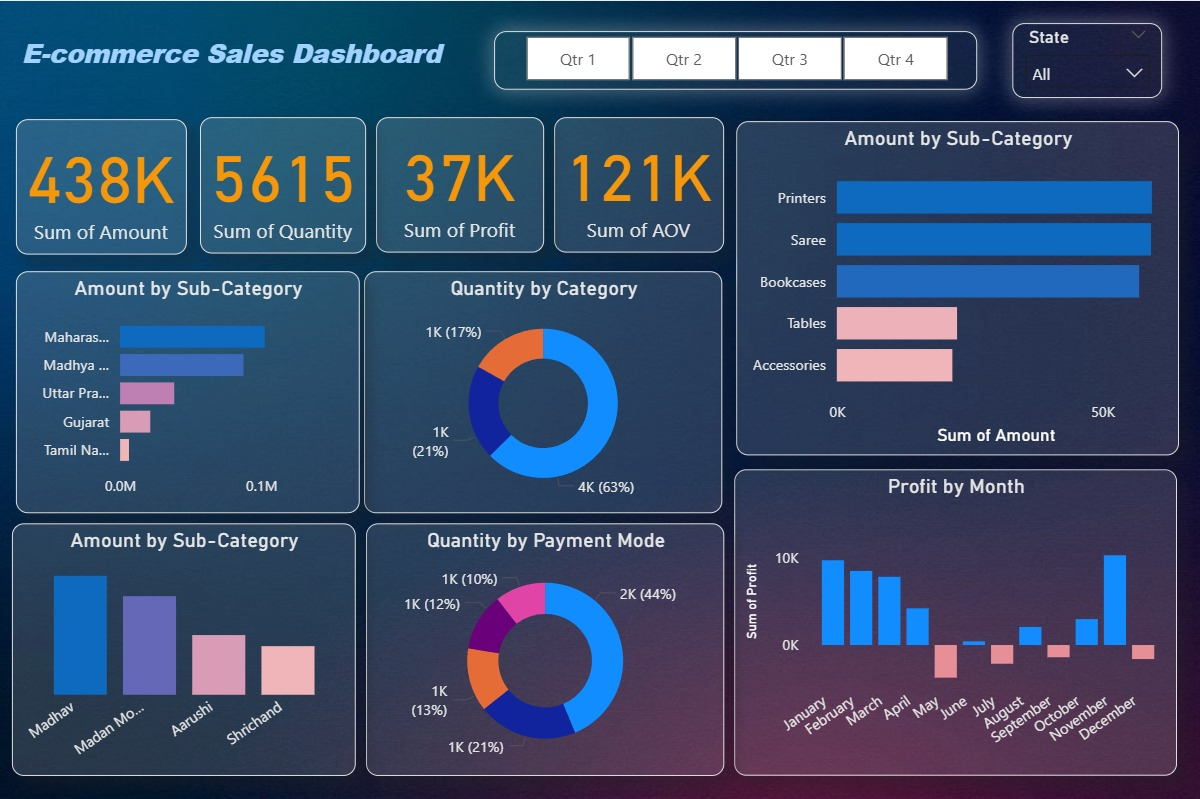

This screenshot's page, from the dashboard's own definition file:
{"tool":"powerbi","page":{"name":"Page 1","canvas":[1280,720],"ordinal":0},"visuals":[{"type":"textbox","box":[150,47.1,401.4,40],"z":0},{"type":"columnChart","title":"Profit by Month","fields":{"Category":["Orders.Order Date.Variation.Date Hierarchy.Month"],"Y":["Sum(Details.Profit)"]},"box":[751.2,413.8,368.8,255],"z":1000},{"type":"barChart","title":"Amount by Sub-Category","fields":{"Y":["Sum(Details.Amount)"],"Category":["Details.Sub-Category"]},"box":[752.5,123.8,368.8,278.8],"z":2000},{"type":"donutChart","title":"Quantity by Category","fields":{"Category":["Details.Category"],"Y":["Sum(Details.Quantity)"]},"box":[443.8,247.5,298.8,201.2],"z":3000},{"type":"donutChart","title":"Quantity by Payment Mode","fields":{"Y":["Sum(Details.Quantity)"],"Category":["Details.PaymentMode"]},"box":[445,458.8,298.8,210],"z":3001},{"type":"card","fields":{"Values":["Sum(Details.Amount)"]},"box":[153.8,121.2,142.5,112.5],"z":3002},{"type":"card","fields":{"Values":["Sum(Details.AOV)"]},"box":[601.2,120,141.2,112.5],"z":3003},{"type":"card","fields":{"Values":["Sum(Details.Profit)"]},"box":[453.8,120,140,112.5],"z":3004},{"type":"card","fields":{"Values":["Sum(Details.Quantity)"]},"box":[306.2,120,138.8,113.8],"z":3005},{"type":"barChart","title":"Amount by Sub-Category","fields":{"Y":["Sum(Details.Amount)"],"Category":["Orders.State"]},"box":[152.5,247.5,286.2,201.2],"z":3006},{"type":"clusteredColumnChart","title":"Amount by Sub-Category","fields":{"Category":["Orders.CustomerName"],"Y":["Sum(Details.Amount)"]},"box":[150,458.8,286.2,210],"z":3007},{"type":"slicer","fields":{"Values":["Orders.Order Date.Variation.Date Hierarchy.Quarter"]},"box":[551.2,47.5,402.5,48.8],"z":3008},{"type":"slicer","fields":{"Values":["Orders.State"]},"box":[983.8,41.2,125,62.5],"z":3009}]}

Visuals, with their boxes on the page's 1280x720 design canvas (x1, y1, x2, y2). These are canvas units, not pixel positions in the 1200x799 screenshot, which may show the page scaled, cropped or inside an application window:
textbox: 150 47 551 87
"Profit by Month" columnChart: 751 414 1120 669
"Amount by Sub-Category" barChart: 752 124 1121 403
"Quantity by Category" donutChart: 444 248 743 449
"Quantity by Payment Mode" donutChart: 445 459 744 669
card - Sum(Details.Amount): 154 121 296 234
card - Sum(Details.AOV): 601 120 742 232
card - Sum(Details.Profit): 454 120 594 232
card - Sum(Details.Quantity): 306 120 445 234
"Amount by Sub-Category" barChart: 152 248 439 449
"Amount by Sub-Category" clusteredColumnChart: 150 459 436 669
slicer - Orders.Order Date.Variation.Date Hierarchy.Quarter: 551 48 954 96
slicer - Orders.State: 984 41 1109 104
